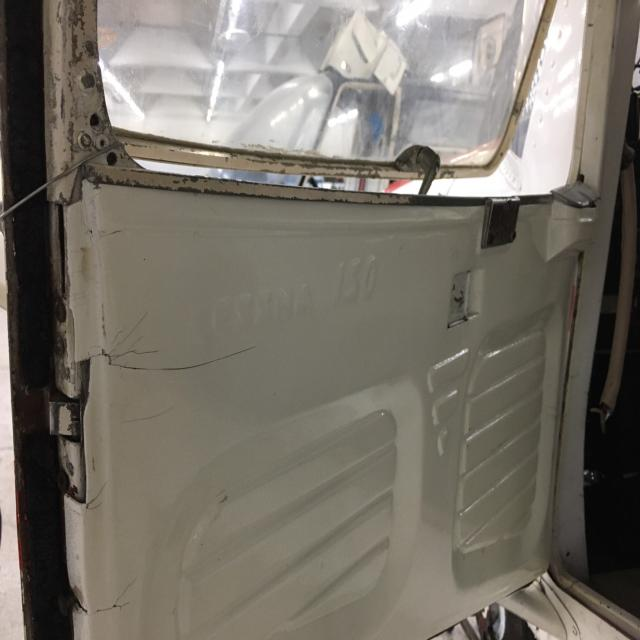Rupture: (78, 295, 272, 443), (62, 547, 169, 632), (48, 190, 76, 299), (55, 468, 110, 512), (88, 195, 133, 248), (50, 309, 76, 394)
